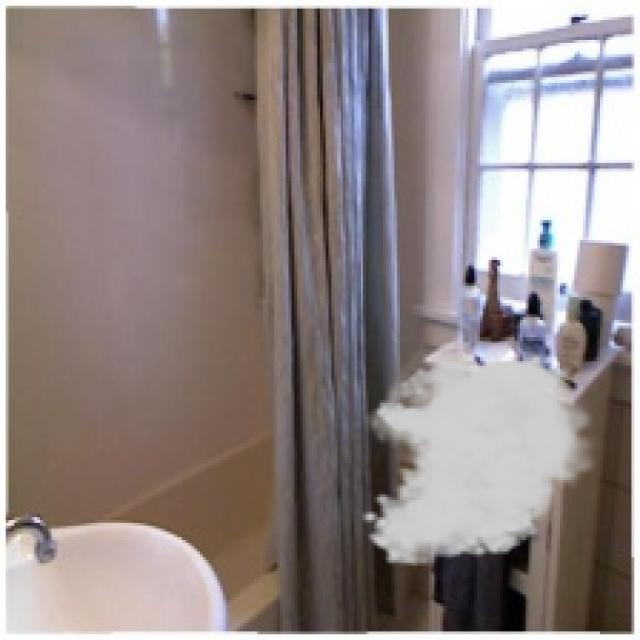Smoke: (360, 341, 603, 568)
